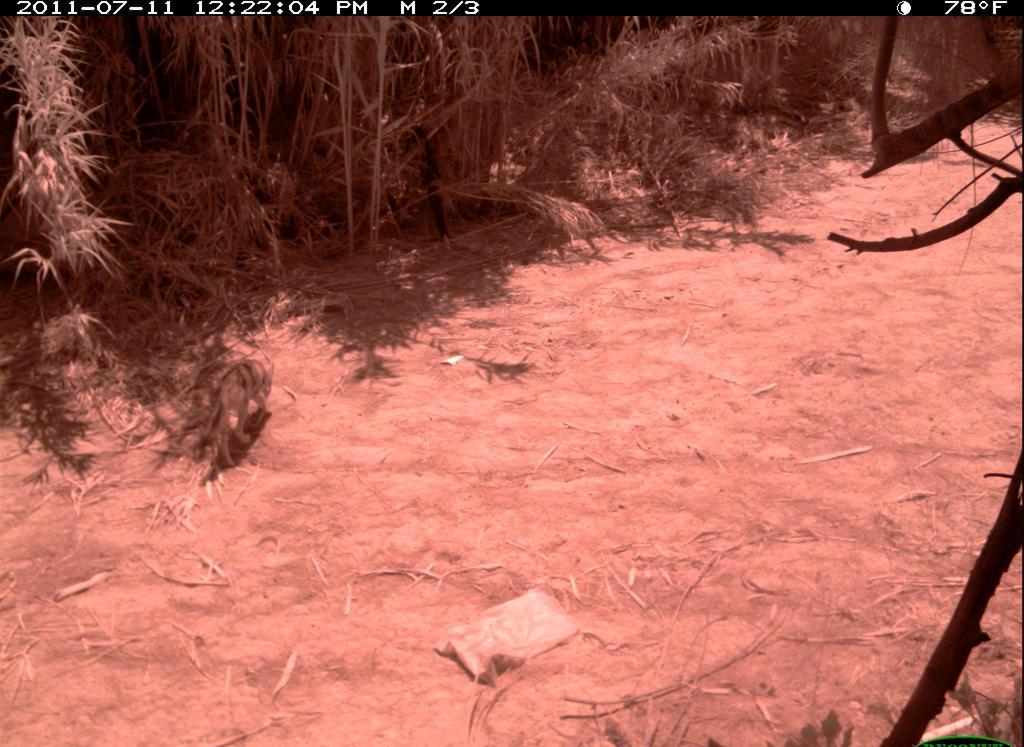coyote: (184, 351, 285, 479)
